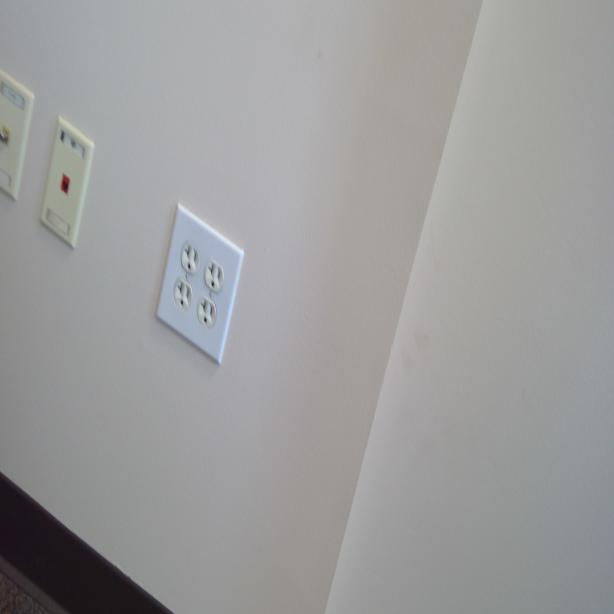typeb: (178, 242, 199, 274), (172, 278, 191, 310), (206, 261, 223, 296), (199, 301, 216, 327)
